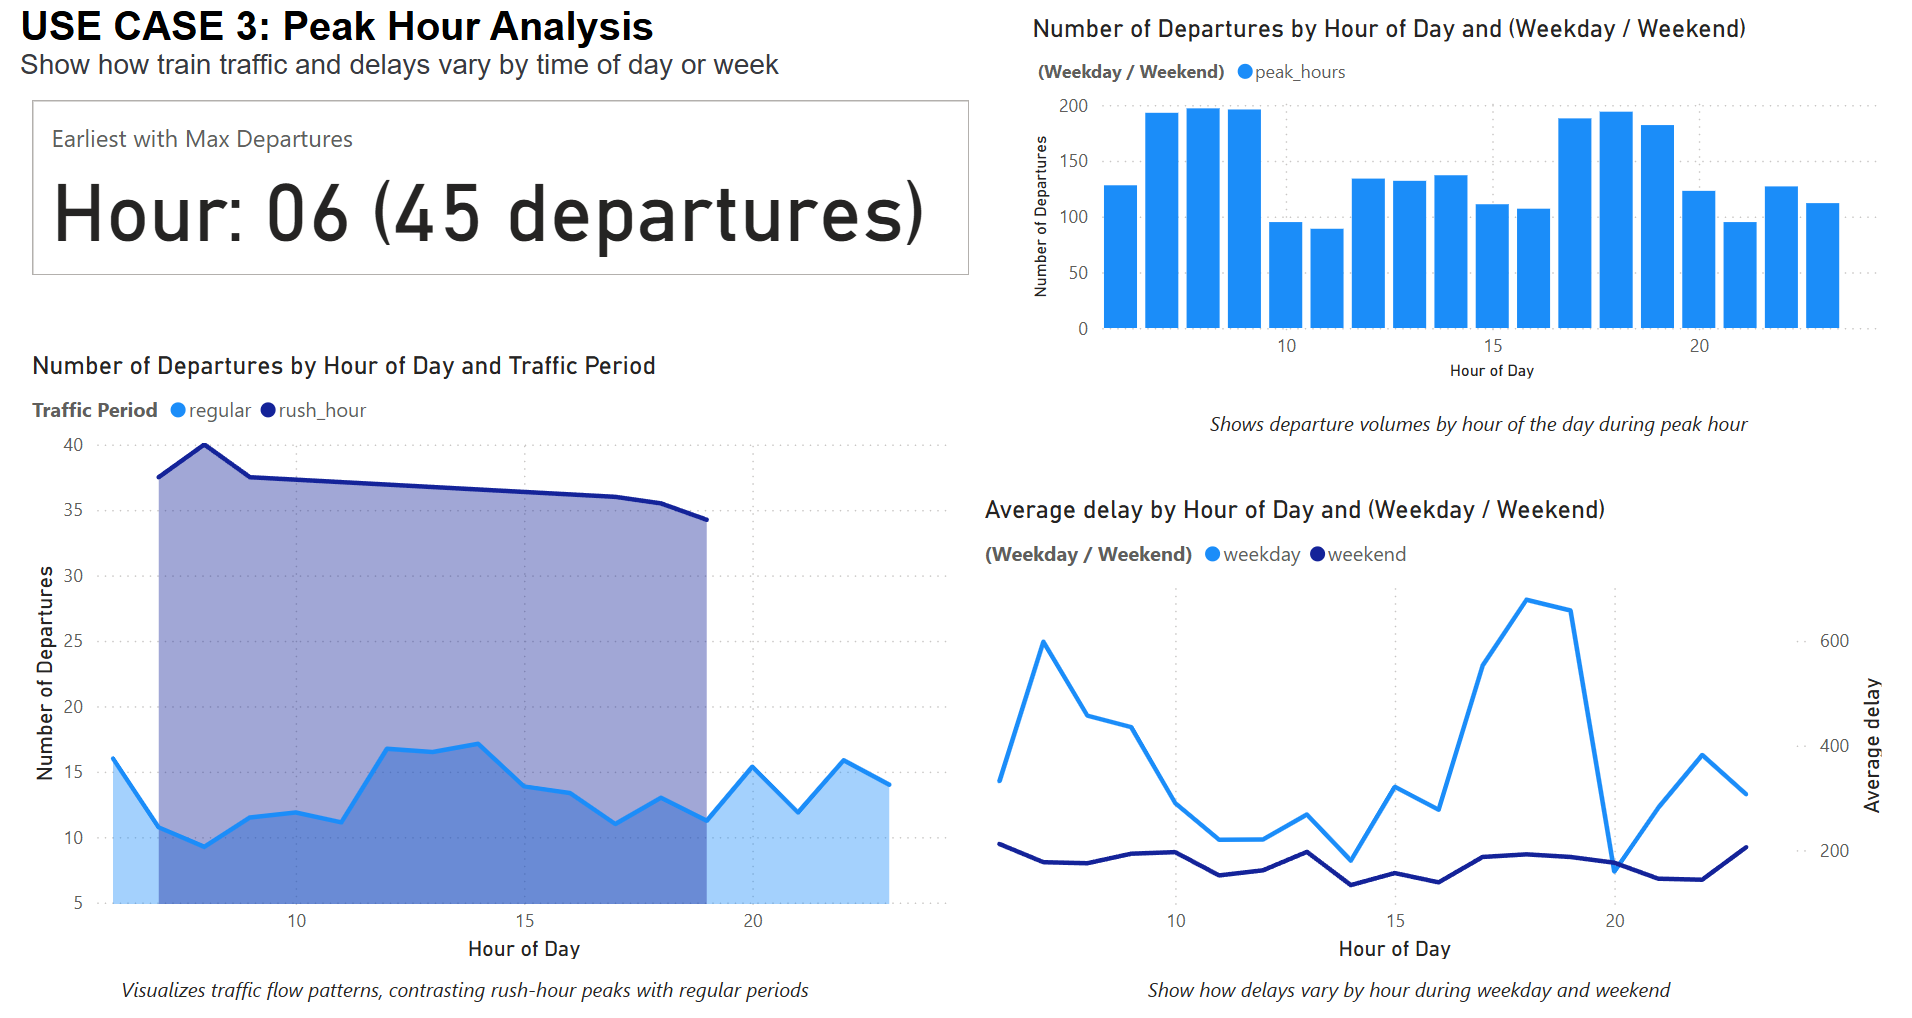

Layout of this report page (visuals, bound fields, positions):
{"tool":"powerbi","page":{"name":"US3","canvas":[1280,720],"ordinal":2},"visuals":[{"type":"textbox","box":[10,0,775,97],"z":0},{"type":"lineChart","fields":{"Category":["PeakHours.data.hour_of_day"],"Series":["PeakHours.data.day_type"],"Y2":["Avg(PeakHours.data.avg_delay_seconds)"]},"box":[653,332,608,315],"z":1000},{"type":"columnChart","fields":{"Category":["PeakHours.data.hour_of_day"],"Y":["Sum(PeakHours.data.departure_count)"],"Series":["PeakHours.data_type"]},"box":[685,11,576,249],"z":2000},{"type":"areaChart","fields":{"Category":["PeakHours.data.hour_of_day"],"Y":["Avg(PeakHours.data.departure_count)"],"Series":["PeakHours.data.peak_indicator"]},"box":[18,236,622,411],"z":3000},{"type":"cardVisual","fields":{"Data":["PeakHours.Peak_Hour_Label"]},"box":[18,64,635,127],"z":4000},{"type":"textbox","box":[653,647,576,34],"z":5000},{"type":"textbox","box":[695,270,585,34],"z":6000},{"type":"textbox","box":[18,647,587,34],"z":7000}]}

Visuals, with their boxes on the page's 1280x720 design canvas (x1, y1, x2, y2). These are canvas units, not pixel positions in the 1912x1018 screenshot, which may show the page scaled, cropped or inside an application window:
textbox: bbox(10, 0, 785, 97)
lineChart - PeakHours.data.hour_of_day x PeakHours.data.day_type: bbox(653, 332, 1261, 647)
columnChart - PeakHours.data.hour_of_day x Sum(PeakHours.data.departure_count): bbox(685, 11, 1261, 260)
areaChart - PeakHours.data.hour_of_day x Avg(PeakHours.data.departure_count): bbox(18, 236, 640, 647)
cardVisual - PeakHours.Peak_Hour_Label: bbox(18, 64, 653, 191)
textbox: bbox(653, 647, 1229, 681)
textbox: bbox(695, 270, 1280, 304)
textbox: bbox(18, 647, 605, 681)
